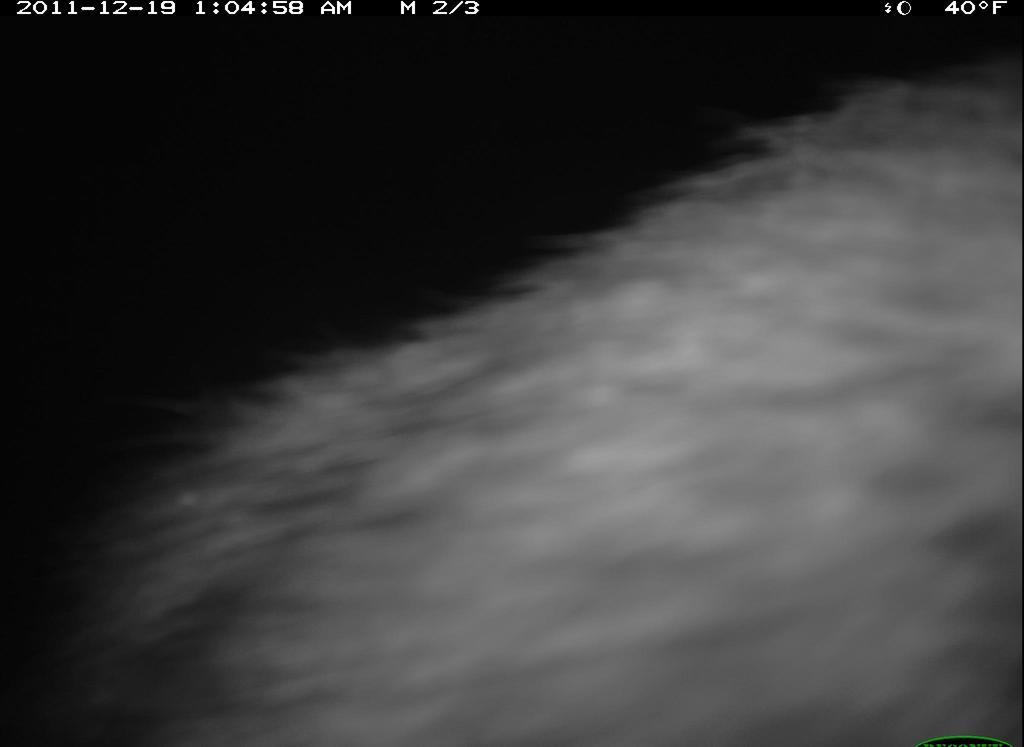raccoon: (90, 62, 1024, 747)
